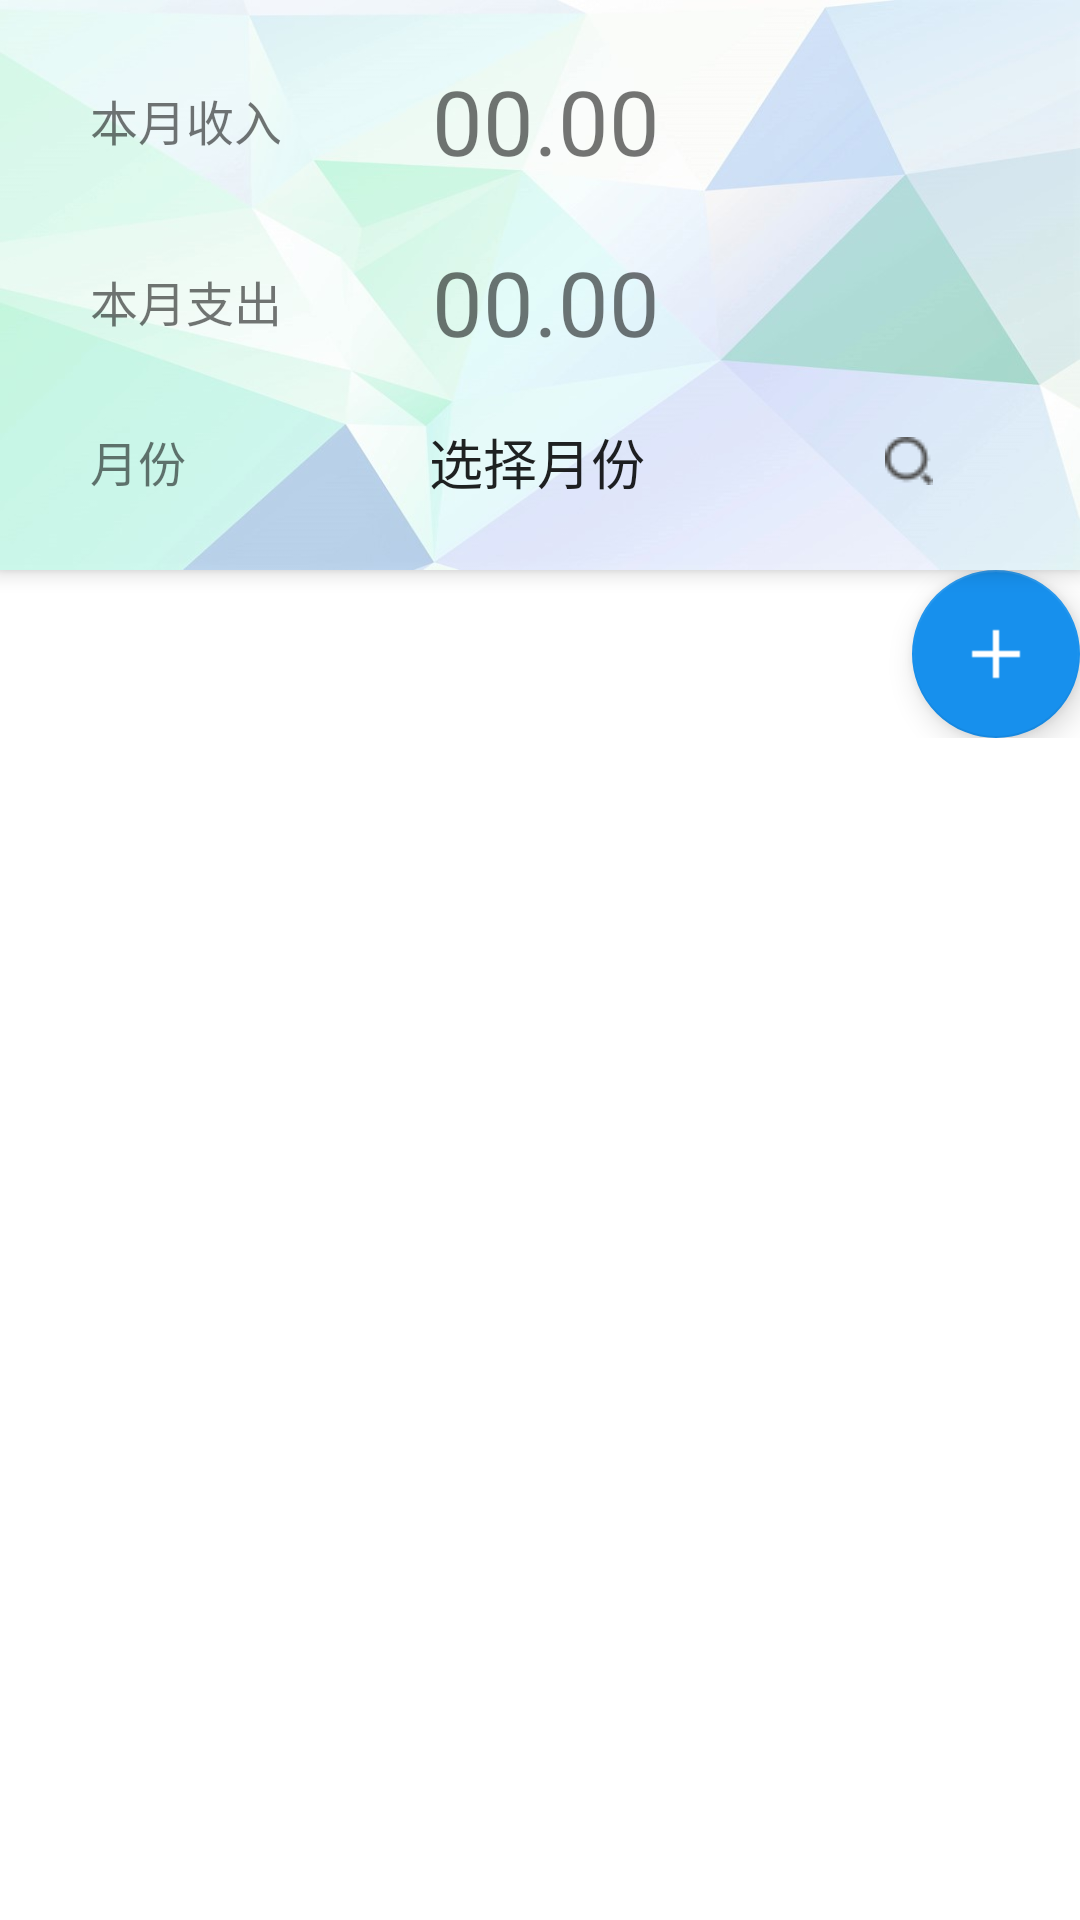

Icons on this 1080x1920 Android screen, each with its box as Rect(x1, y1, x2, y2):
add: Rect(912, 570, 1080, 738)
search: Rect(885, 437, 933, 485)
